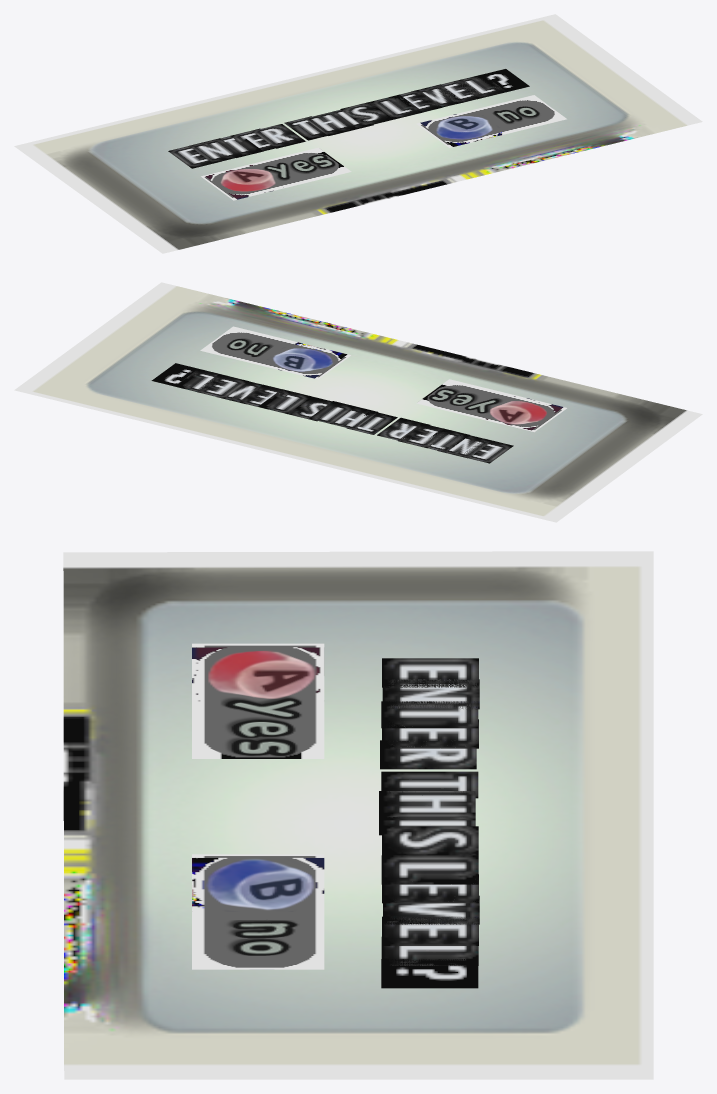
Rendered from Enter This Level.FBX.
The picture shows the model from 3 angles, top to bottom: view 1: azimuth 30°, elevation 25°; view 2: azimuth 150°, elevation 25°; view 3: azimuth 270°, elevation 25°; orthographic projection. The views are drawn at different scales.
Parts seen in each view (by area): view 1: Enter This Level_Baloon, YesNo Anim; view 2: Enter This Level_Baloon, YesNo Anim; view 3: Enter This Level_Baloon, YesNo Anim.
Boxes of the visible parts, box(x1,y1,x2,y2) form: Enter This Level_Baloon: box(14, 14, 702, 253); YesNo Anim: box(201, 95, 566, 200); Enter This Level_Baloon: box(14, 282, 702, 522); YesNo Anim: box(200, 326, 566, 432); Enter This Level_Baloon: box(63, 551, 653, 1079); YesNo Anim: box(192, 643, 324, 969).
Bounding box in the file's own units: 208 × 97.95 × 1.68.
